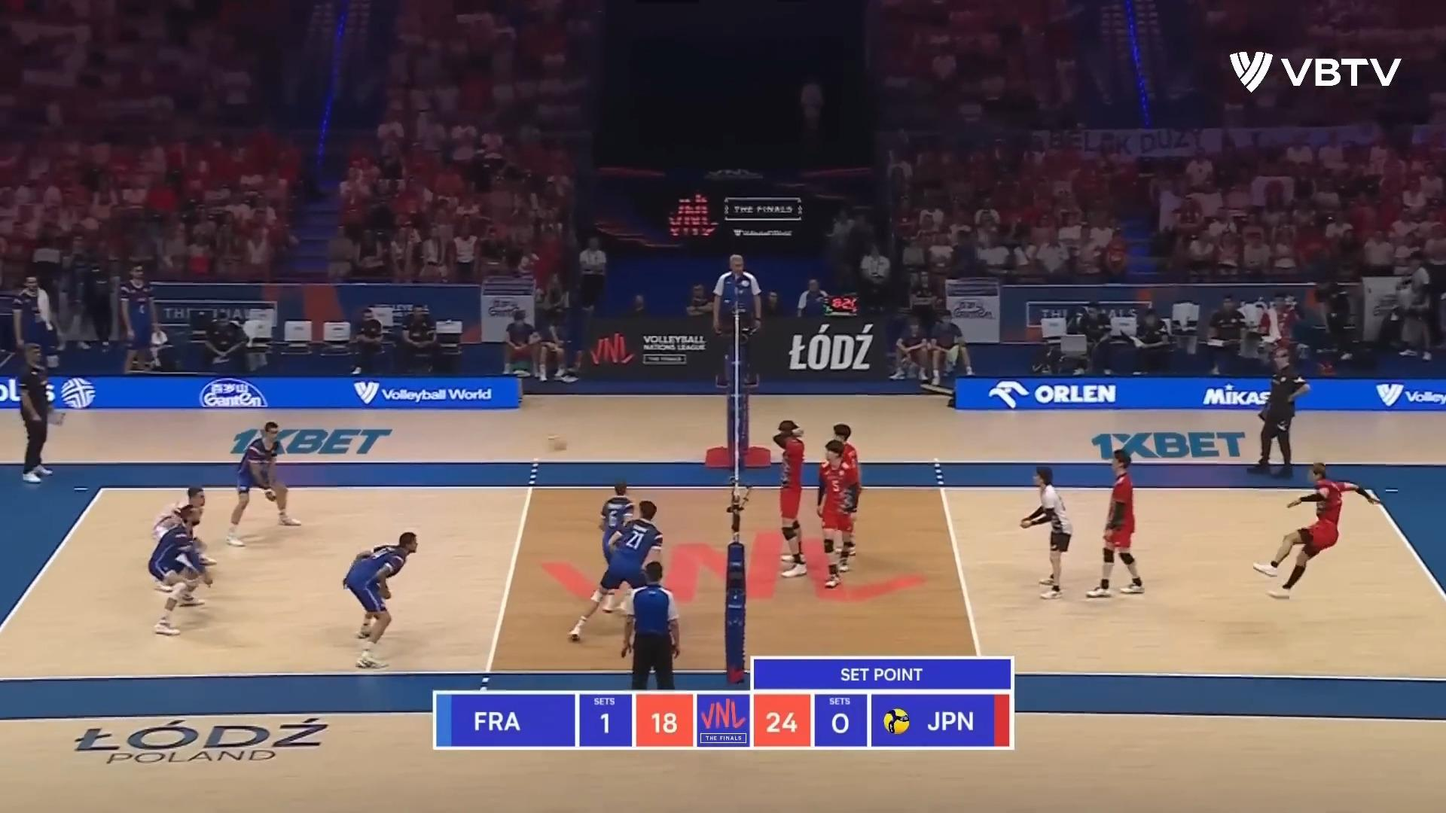ball: (544, 435, 569, 454)
